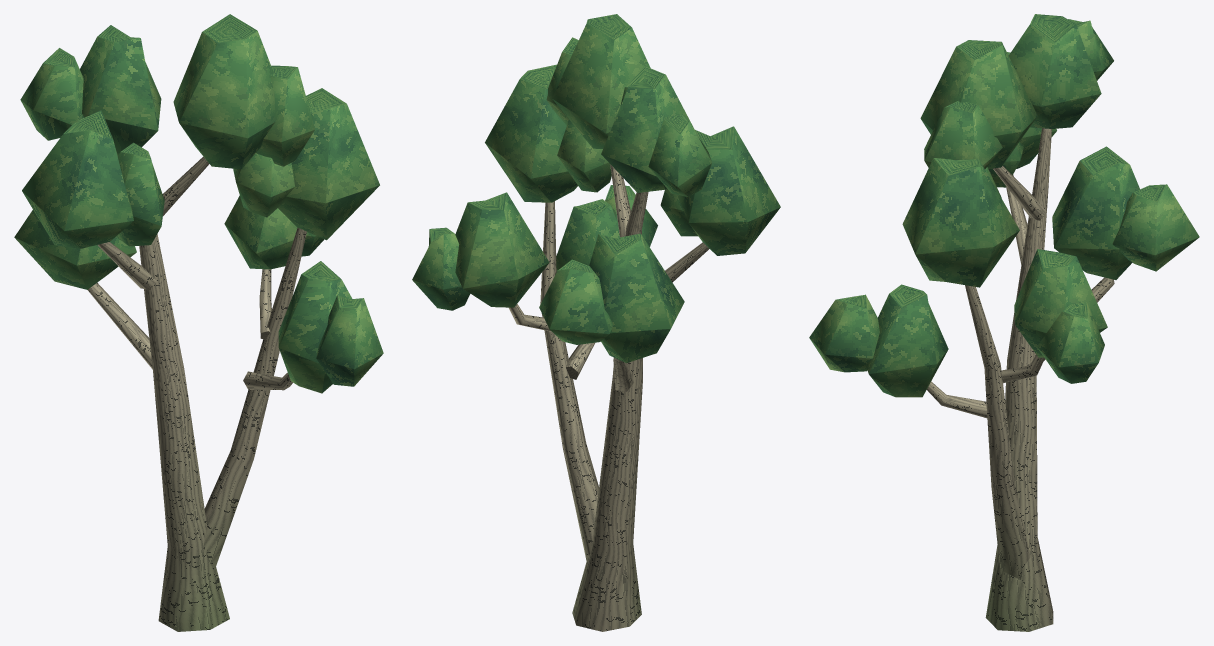
File: tree-alder-lod1.glb
3 renders of one model, left to right at view 1: azimuth 30°, elevation 25°; view 2: azimuth 150°, elevation 25°; view 3: azimuth 270°, elevation 25°, orthographic. The views are drawn at different scales.
Parts seen in each view (by area): view 1: Tree_alder; view 2: Tree_alder; view 3: Tree_alder.
Boxes of the visible parts, x1,y1,x2,y2 form: Tree_alder: (14,14,383,631); Tree_alder: (412,14,780,631); Tree_alder: (809,14,1199,631).
Size of the model in its own units: 4.96 by 8.81 by 5.32.
2 materials, 2 textured.
